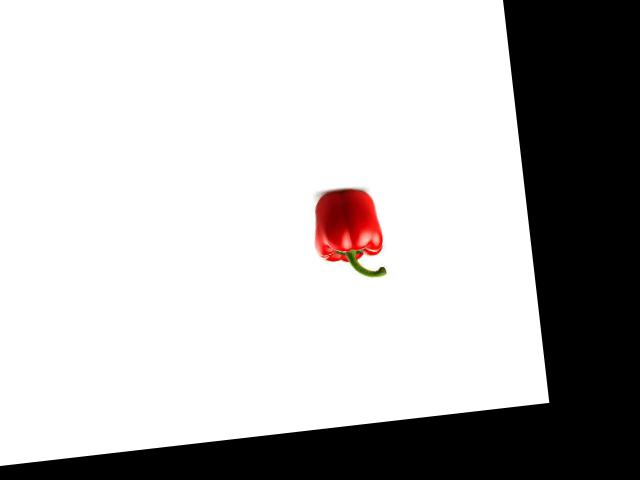bell_pepper: (311, 185, 389, 284)
